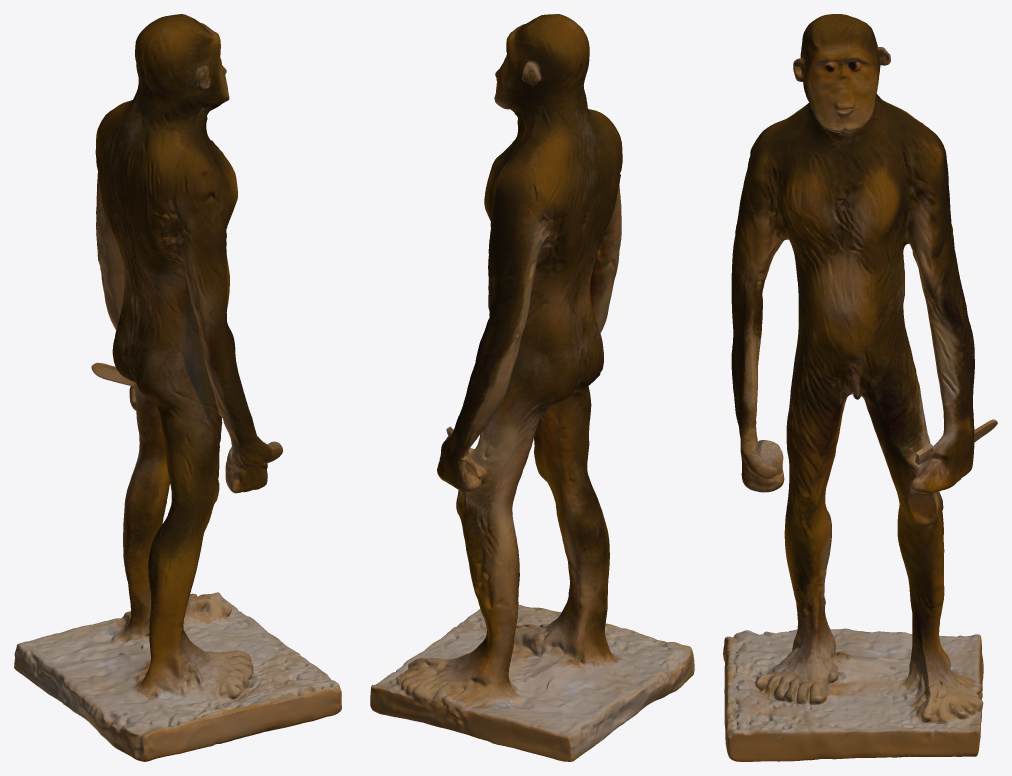
File: meganthropus-low.glb
The picture shows the model from 3 angles, left to right: view 1: azimuth 30°, elevation 25°; view 2: azimuth 150°, elevation 25°; view 3: azimuth 270°, elevation 25°; orthographic projection. The views are drawn at different scales.
Visible parts, largest first — view 1: tripo_node_12504c3d-445d-4ee6-a7dd-4d397c1ee27b; view 2: tripo_node_12504c3d-445d-4ee6-a7dd-4d397c1ee27b; view 3: tripo_node_12504c3d-445d-4ee6-a7dd-4d397c1ee27b.
Boxes of the visible parts, left/top/right/bottom form: tripo_node_12504c3d-445d-4ee6-a7dd-4d397c1ee27b: left=14, top=14, right=341, bottom=761; tripo_node_12504c3d-445d-4ee6-a7dd-4d397c1ee27b: left=370, top=14, right=694, bottom=761; tripo_node_12504c3d-445d-4ee6-a7dd-4d397c1ee27b: left=723, top=14, right=997, bottom=761.
Bounding box in the file's own units: 0.3287 × 1 × 0.3609.
1 material, 1 textured.
